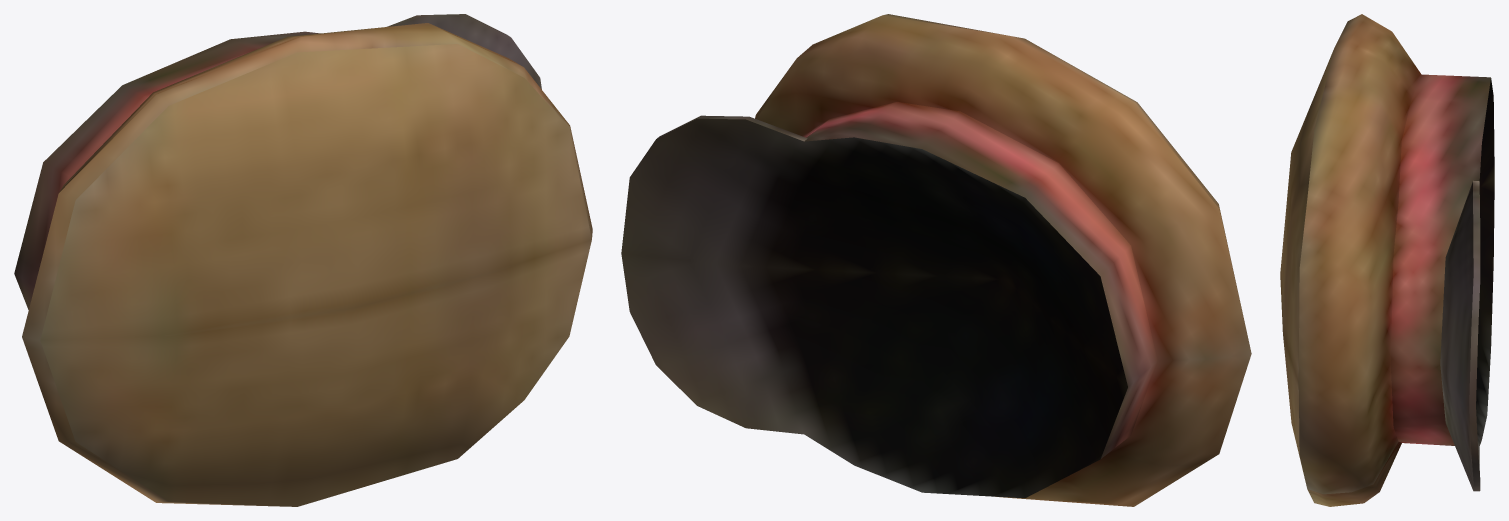
File: helmet_russian_trench_b_hat.glb
The picture shows the model from 3 angles, left to right: view 1: azimuth 30°, elevation 25°; view 2: azimuth 150°, elevation 25°; view 3: azimuth 270°, elevation 25°; orthographic projection. The views are drawn at different scales.
Size of the model in its own units: 12.5 by 9.6 by 4.46.
Materials: 1 (1 with a texture image).
